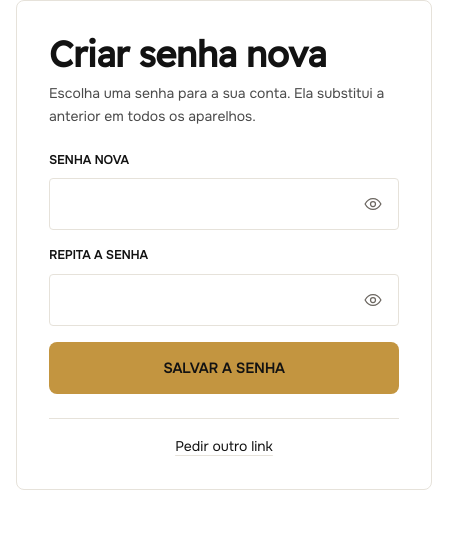
Test: duas senhas diferentes não chegam a sair do navegador
Type "senha-nova-bem-longa" into the password field labelled "Senha nova" at [224, 204], box [49,178,399,230]
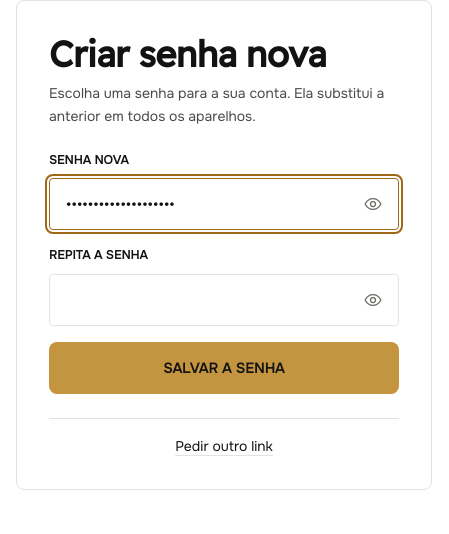
Type "senha-nova-bem-longo" into the password field labelled "Repita a senha" at [224, 300], box [49,274,399,326]
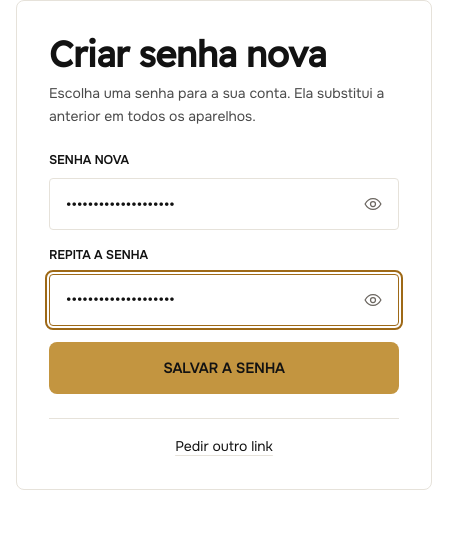
Click the button named "Salvar a senha" at [224, 368], box [49,342,399,394]
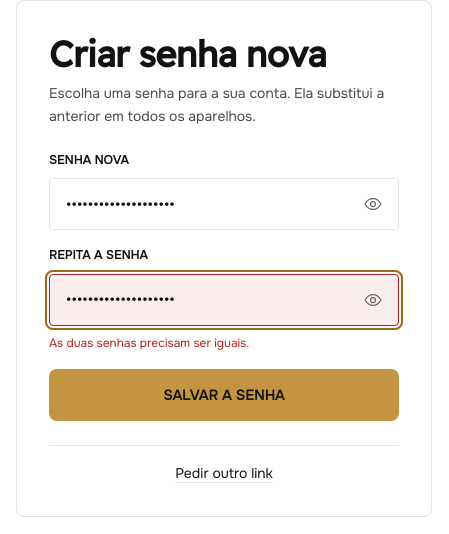
Expected: the text "As duas senhas precisam ser iguais." is shown, [49,334,249,350]
